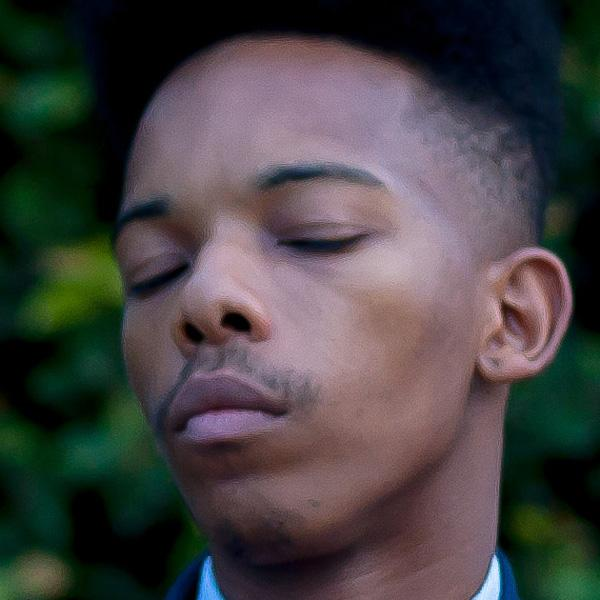Eyes: (264, 209, 384, 268), (114, 231, 202, 306)
